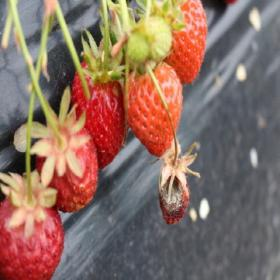Gray Mold: (158, 138, 201, 226)
